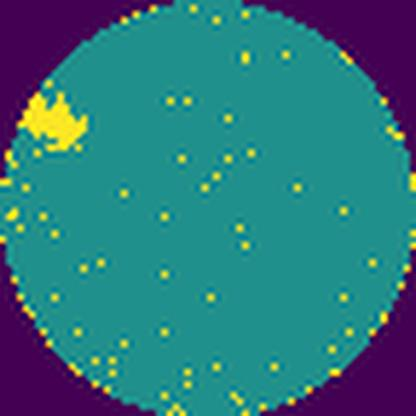Loc: (19, 94, 92, 152)
